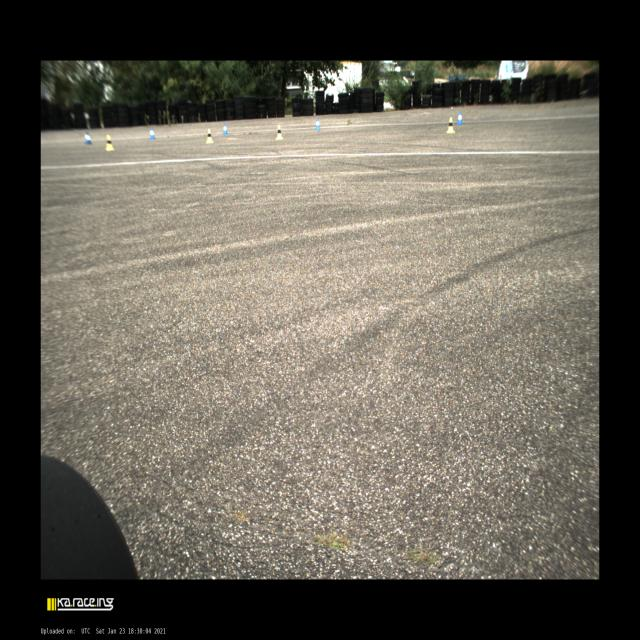blue_cone: (456, 112, 463, 125), (85, 132, 92, 144), (315, 118, 321, 130), (150, 128, 156, 139), (222, 124, 228, 134)
yellow_cone: (105, 135, 114, 151), (276, 124, 284, 140), (447, 117, 455, 133), (206, 129, 213, 143)
